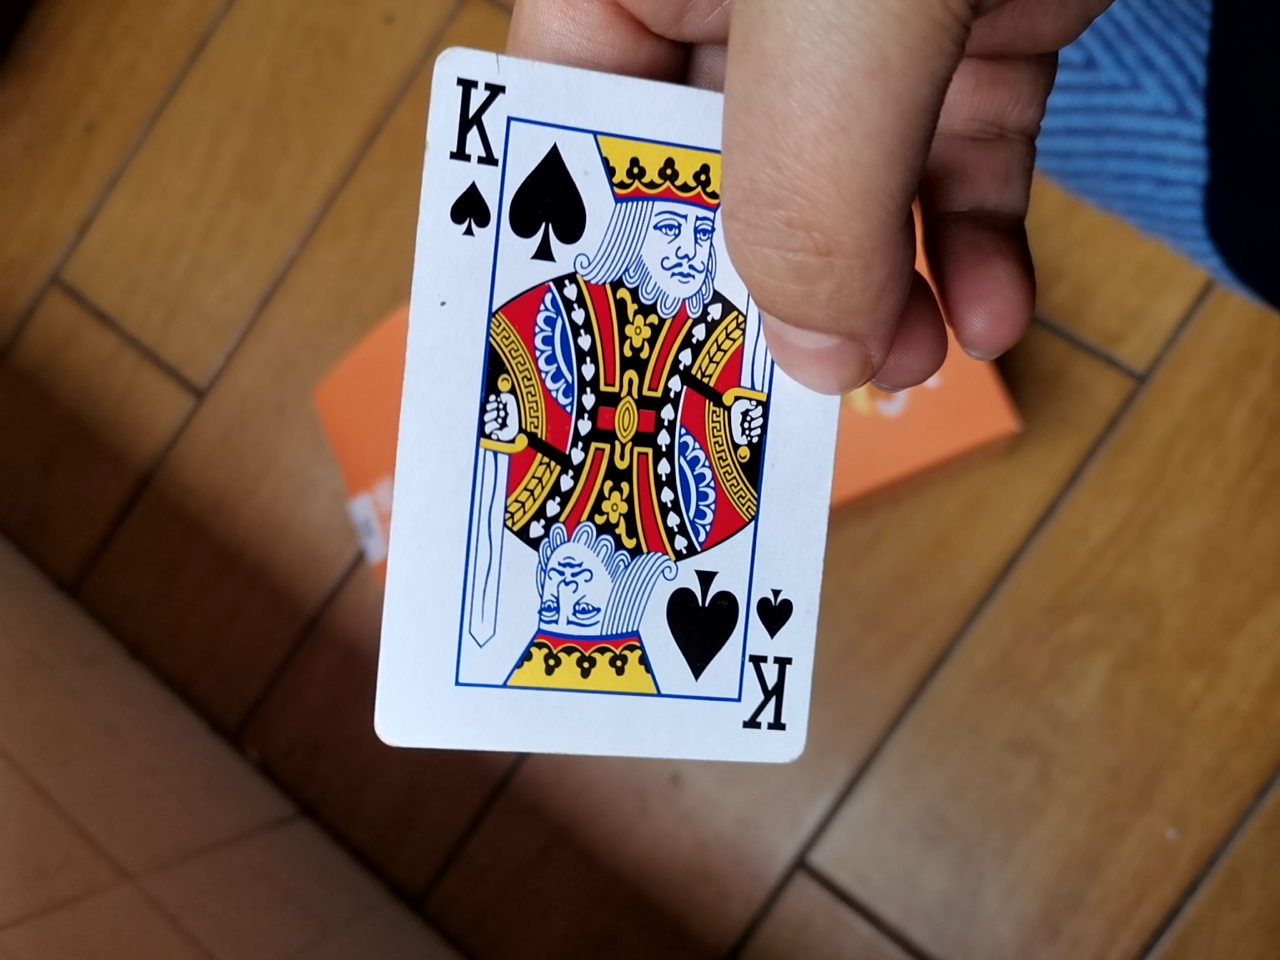ht k: (374, 47, 846, 794)
